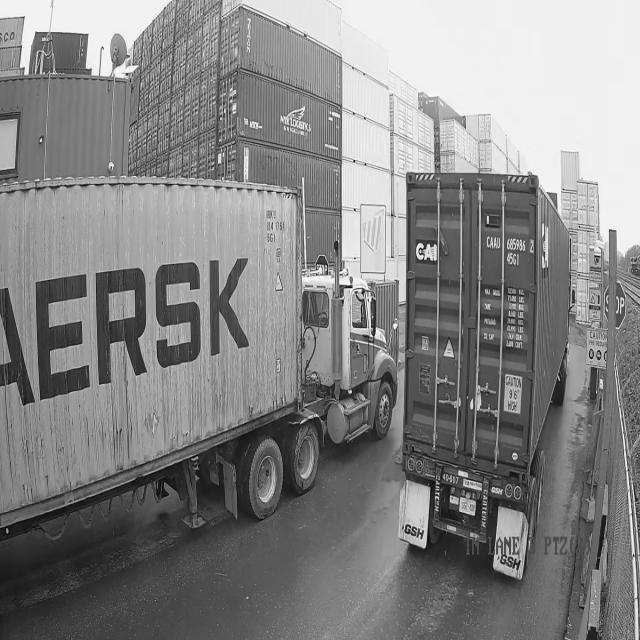container_company_logo: (0, 241, 254, 419), (415, 240, 440, 268)
container_number: (485, 226, 528, 275), (263, 204, 286, 247)
other_container_info: (482, 279, 528, 361)
truck_with_container: (0, 176, 398, 527), (398, 172, 572, 579)
